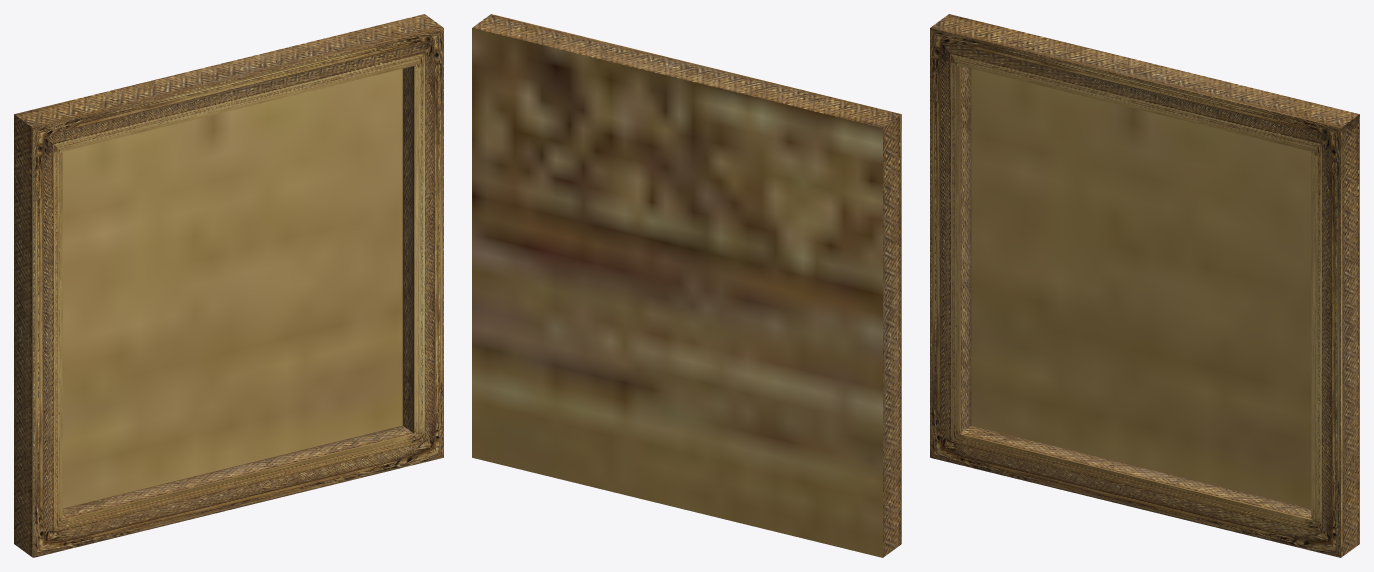
File: frame_2.dae
3 views of the same model, side by side, from view 1: azimuth 30°, elevation 25°; view 2: azimuth 150°, elevation 25°; view 3: azimuth 330°, elevation 25° (orthographic).
Parts seen in each view (by area): view 1: Cube; view 2: Cube; view 3: Cube.
Part boxes in pixels (bbox=[...]): Cube: bbox=[14, 14, 443, 557]; Cube: bbox=[472, 14, 901, 557]; Cube: bbox=[930, 14, 1359, 557].
Bounding box in the file's own units: 2 × 2 × 0.16.
1 material, 1 textured.
